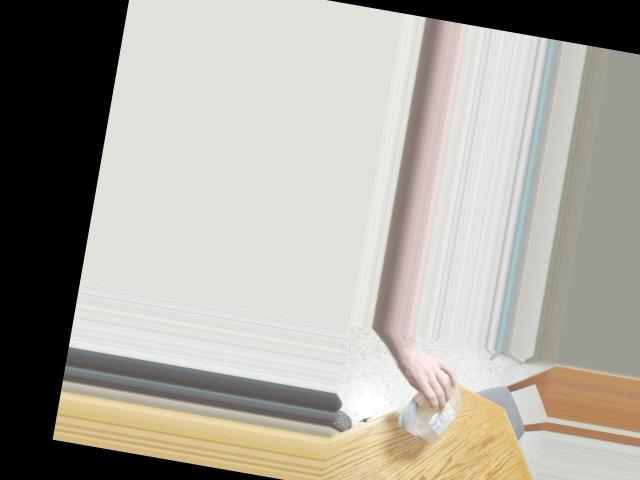cheese: (413, 377, 463, 440)
